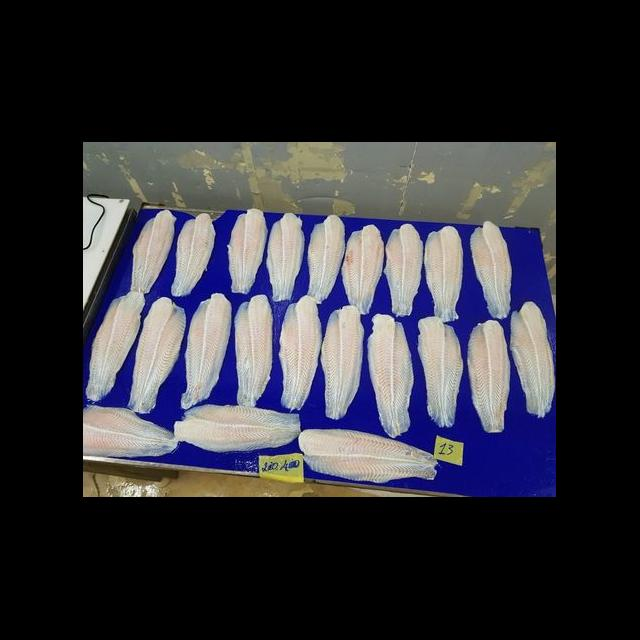fish: (296, 425, 442, 490), (411, 315, 471, 432), (272, 291, 328, 416), (508, 296, 556, 422)
